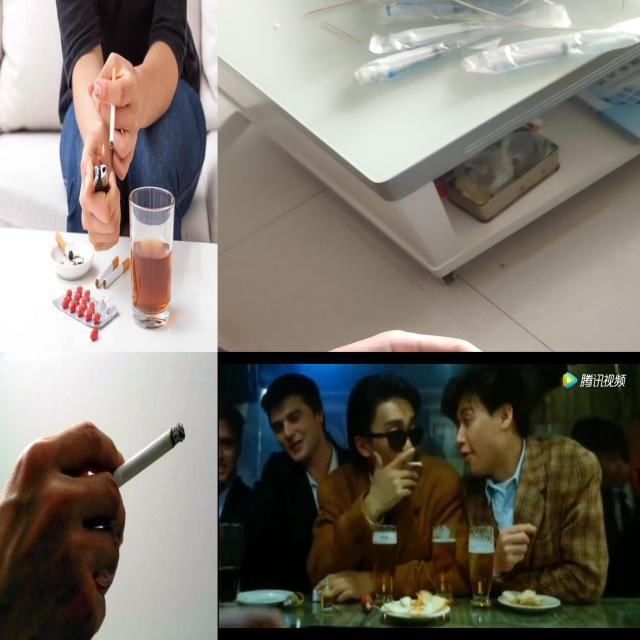cigarette: (101, 422, 186, 496), (108, 56, 116, 154), (406, 461, 423, 468)
